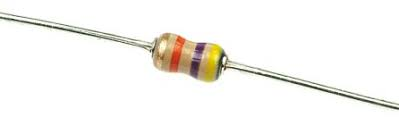resistor: (102, 22, 264, 96)
